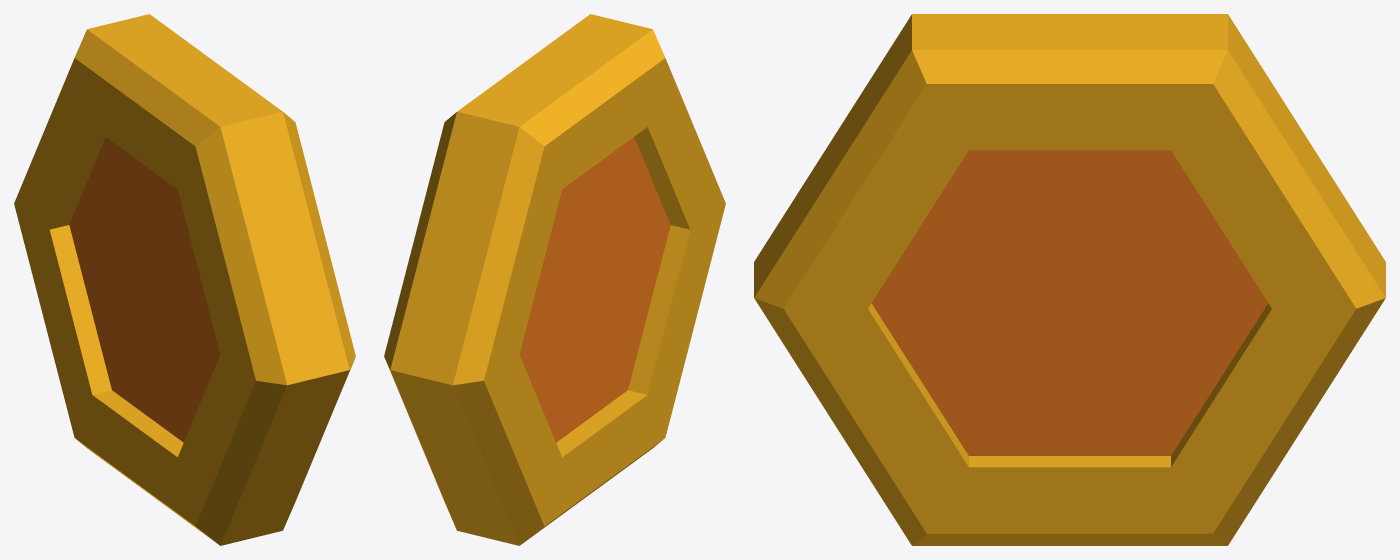
Rendered from Coin.fbx.
The picture shows the model from 3 angles, left to right: view 1: azimuth 30°, elevation 25°; view 2: azimuth 150°, elevation 25°; view 3: azimuth 270°, elevation 25°; orthographic projection. The views are drawn at different scales.
Visible parts, largest first — view 1: Coin; view 2: Coin; view 3: Coin.
Boxes of the visible parts, x1,y1,x2,y2 form: Coin: (14,14,355,545); Coin: (384,14,725,545); Coin: (754,14,1385,545).
Bounding box in the file's own units: 3.57 × 14.29 × 16.51.
